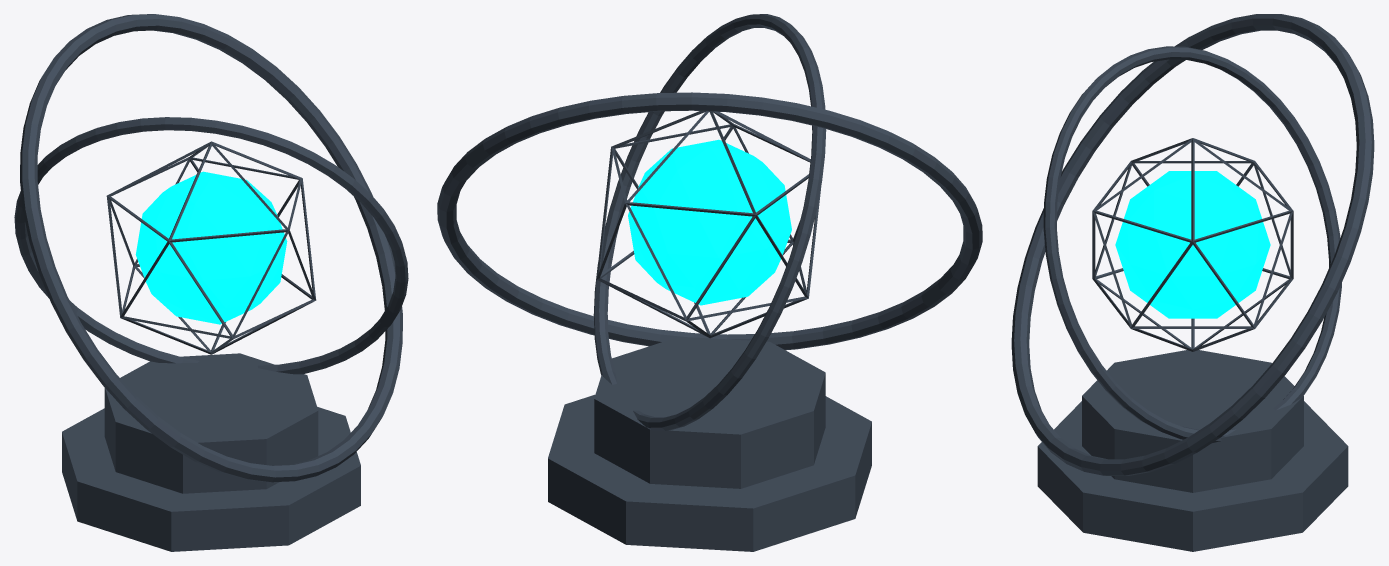
Rendered from TechnoCoreMonolith.glb.
3 views of the same model, side by side, from view 1: azimuth 30°, elevation 25°; view 2: azimuth 150°, elevation 25°; view 3: azimuth 270°, elevation 25° (orthographic). The views are drawn at different scales.
Visible parts, largest first — view 1: Gimbal_Ring_Outer, Base_Tier_Top, Base_Tier_Bottom, Central_Prism_Core, Gimbal_Ring_Inner, Central_Prism_Cage; view 2: Base_Tier_Top, Base_Tier_Bottom, Gimbal_Ring_Outer, Central_Prism_Core, Gimbal_Ring_Inner, Central_Prism_Cage; view 3: Gimbal_Ring_Outer, Base_Tier_Top, Base_Tier_Bottom, Central_Prism_Core, Gimbal_Ring_Inner, Central_Prism_Cage.
Boxes of the visible parts, x1,y1,x2,y2 form: Gimbal_Ring_Outer: (20, 14, 402, 482); Base_Tier_Top: (104, 353, 318, 493); Base_Tier_Bottom: (62, 407, 360, 551); Central_Prism_Core: (135, 171, 287, 324); Gimbal_Ring_Inner: (14, 117, 408, 374); Central_Prism_Cage: (106, 141, 316, 354); Base_Tier_Top: (594, 336, 825, 488); Base_Tier_Bottom: (548, 394, 871, 551); Gimbal_Ring_Outer: (437, 92, 982, 350); Central_Prism_Core: (628, 139, 791, 305); Gimbal_Ring_Inner: (593, 14, 826, 431); Central_Prism_Cage: (596, 111, 821, 338); Gimbal_Ring_Outer: (1011, 14, 1374, 475); Base_Tier_Top: (1082, 350, 1303, 492); Base_Tier_Bottom: (1037, 401, 1348, 551); Central_Prism_Core: (1115, 171, 1270, 318); Gimbal_Ring_Inner: (1043, 46, 1341, 442); Central_Prism_Cage: (1092, 138, 1293, 351).
Bounding box in the file's own units: 4.27 × 4.22 × 3.27.
